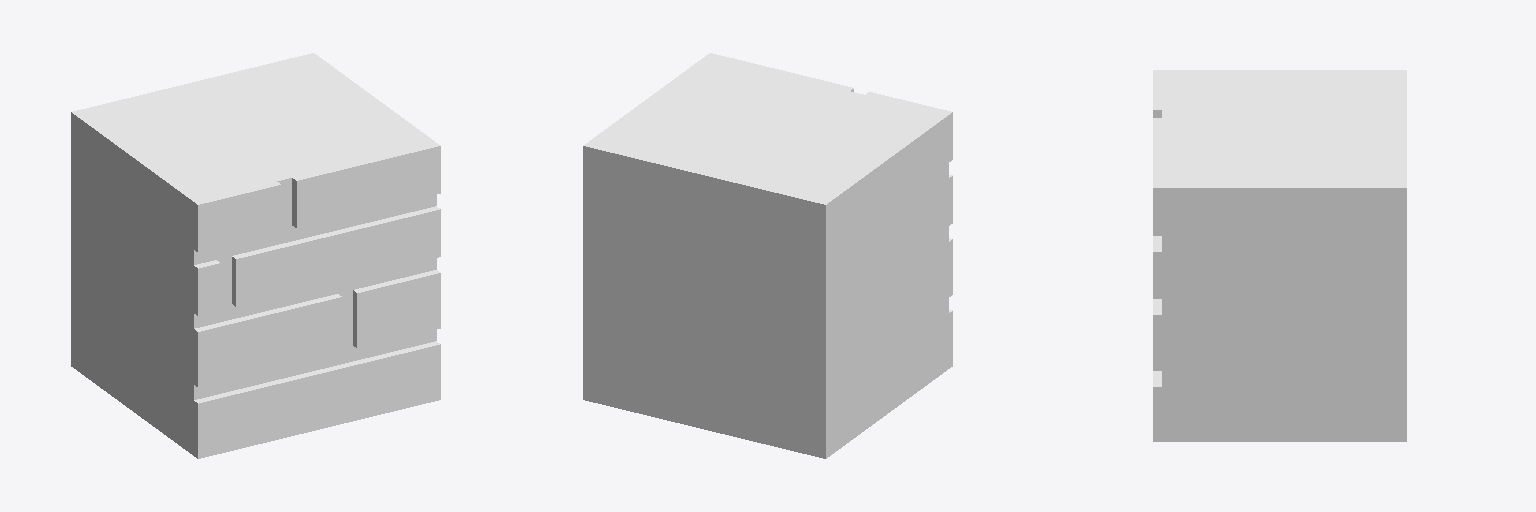
Rendered from stone_bricks-6.obj.
3 views of the same model, side by side, from view 1: azimuth 30°, elevation 25°; view 2: azimuth 150°, elevation 25°; view 3: azimuth 270°, elevation 25° (orthographic).
Visible parts, largest first — view 1: object 1; view 2: object 1; view 3: object 1.
Part boxes in pixels (x1,y1,x2,y2): object 1: (71,53,440,458); object 1: (583,53,952,458); object 1: (1153,70,1406,441).
Size of the model in its own units: 3.2 by 3.2 by 2.9.